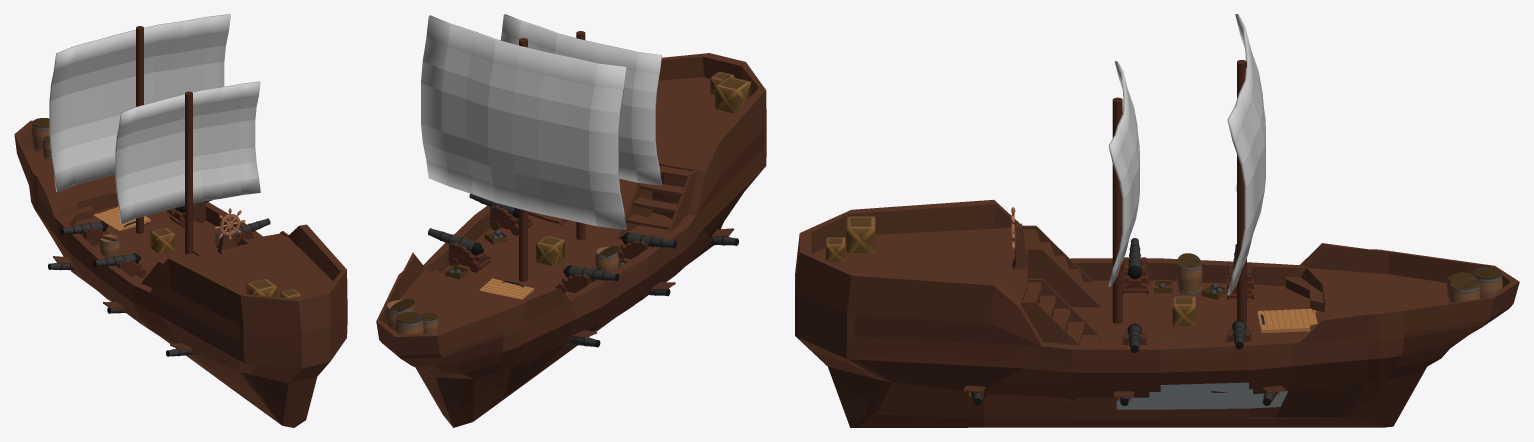
The model's file is TV_PiraattiLaiva.fbx.
The picture shows the model from 3 angles, left to right: view 1: azimuth 30°, elevation 25°; view 2: azimuth 150°, elevation 25°; view 3: azimuth 270°, elevation 25°; orthographic projection. The views are drawn at different scales.
Parts seen in each view (by area): view 1: laiva; view 2: laiva; view 3: laiva.
Boxes of the visible parts, x1,y1,x2,y2 form: laiva: (14,14,347,427); laiva: (376,14,766,427); laiva: (795,14,1519,427).
Bounding box in the file's own units: 812 × 1277 × 2297.
